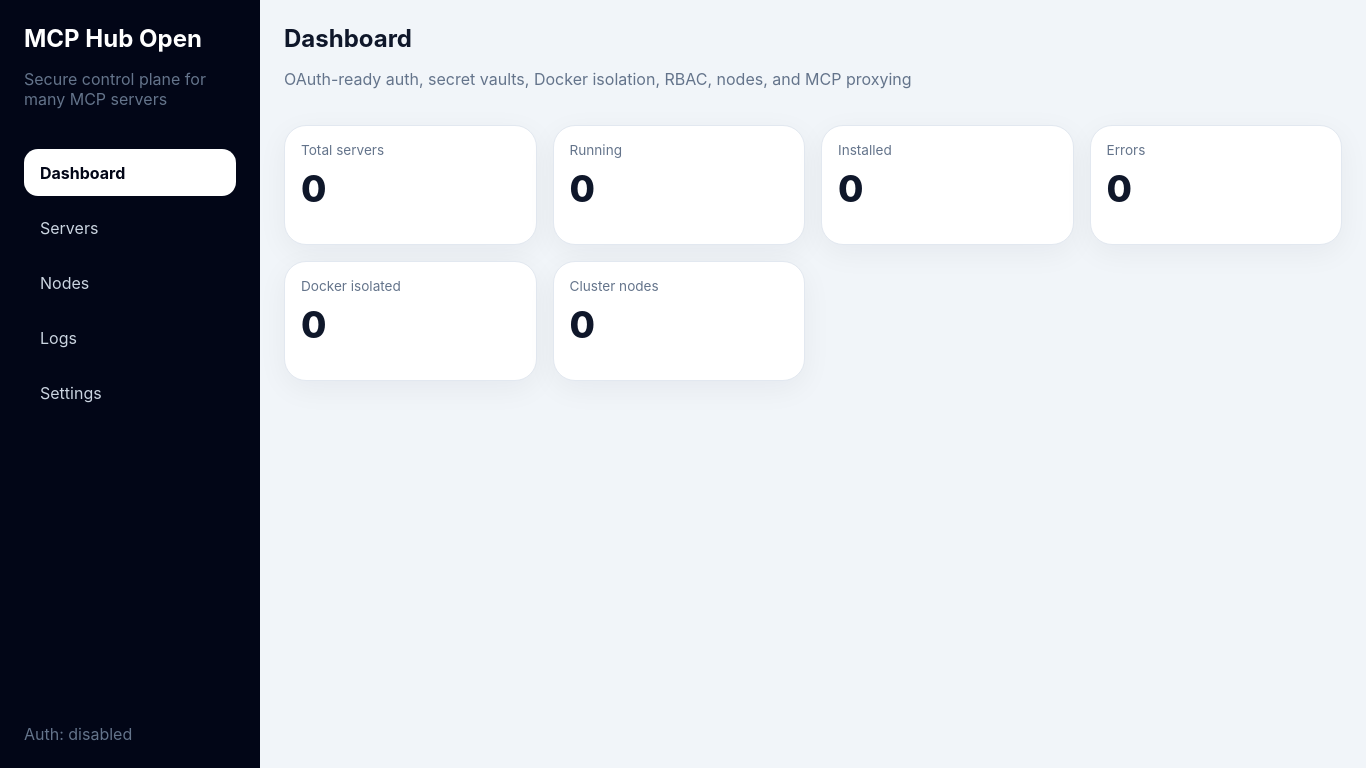
App component navigation › navigates to Nodes page
The width and height of the screenshot is (1366, 768).
Expected: the navigation bar is shown, [24, 149, 236, 417]
Click the link "Nodes" at (65, 283), box [40, 273, 89, 293]
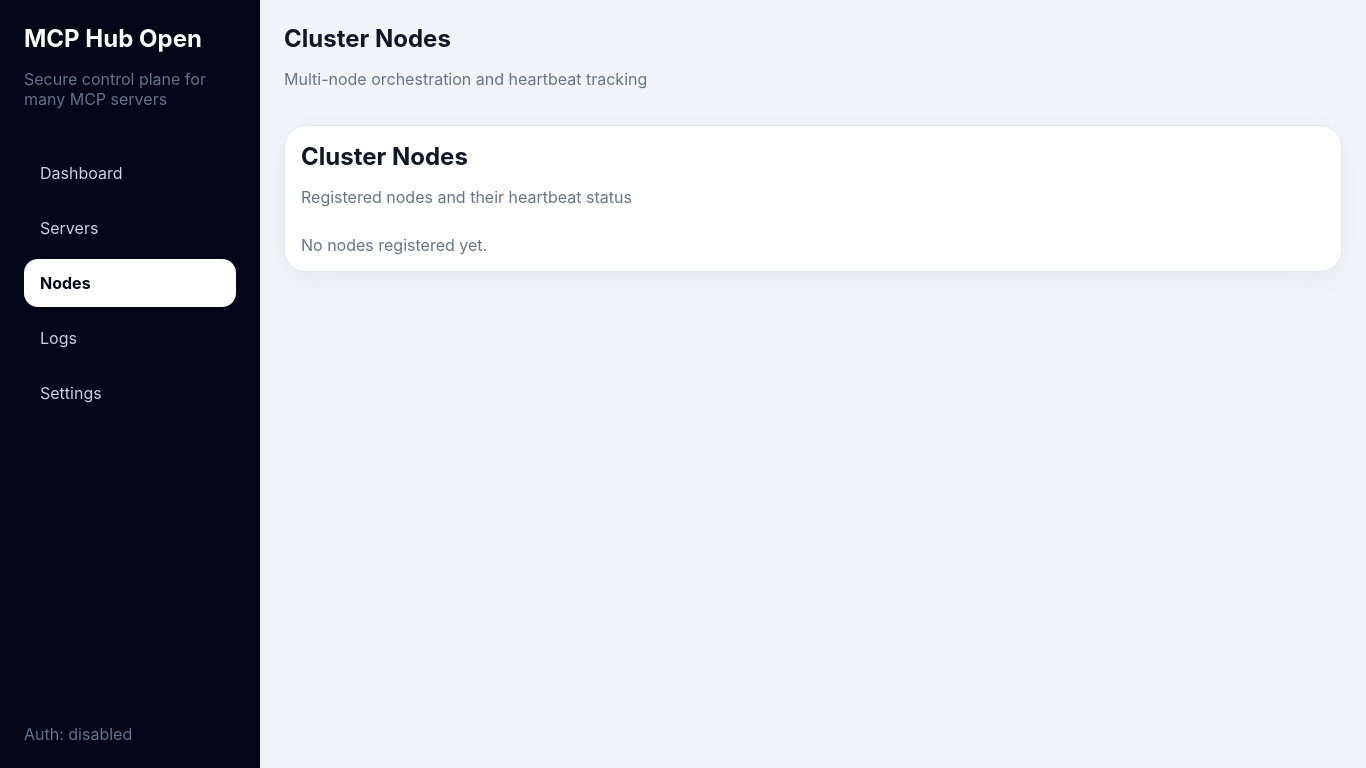
Expected: the 1st heading "Cluster Nodes" is shown, [284, 24, 451, 53]
